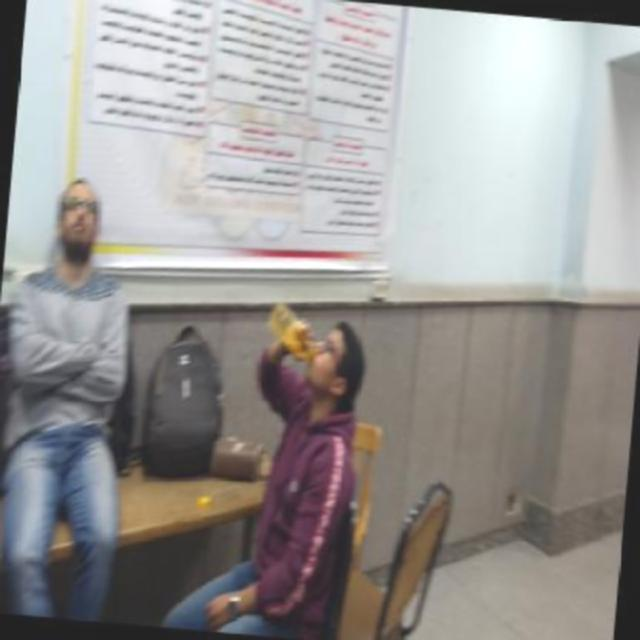non-fight: (0, 172, 154, 623), (202, 298, 376, 638)
